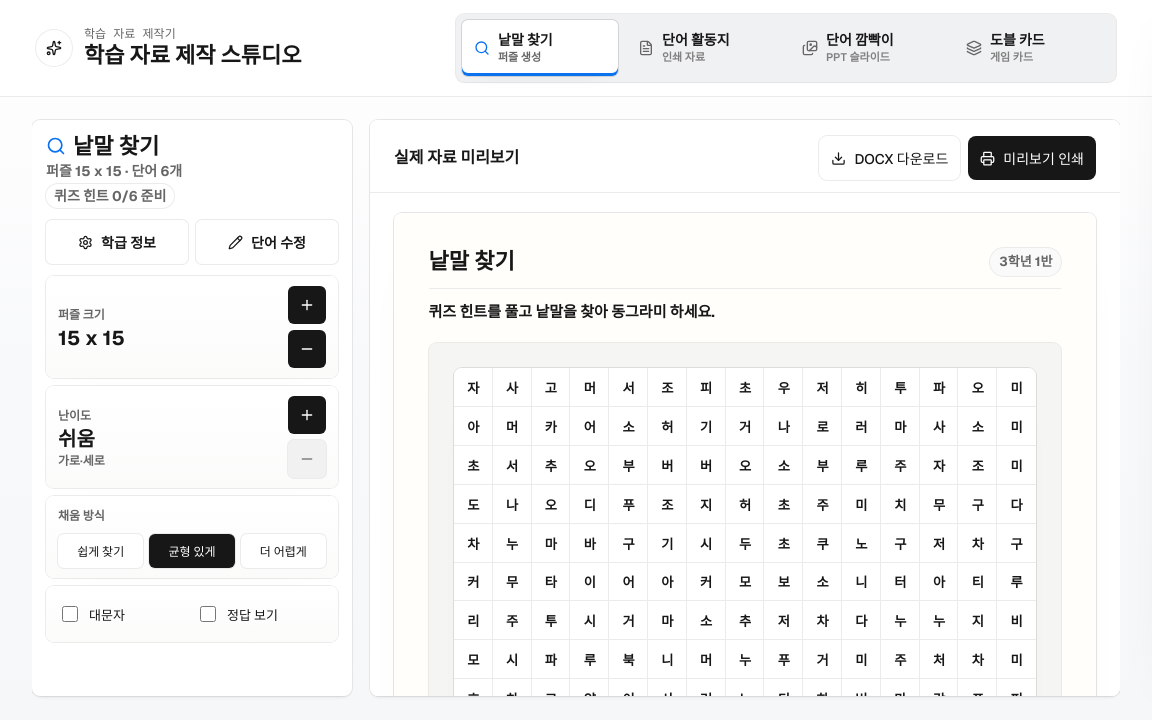
it: App › returns to the word preparation home when the top-left brand is clicked
Click the button "도블 카드 게임 카드".
click(1032, 48)  # box left=954, top=20, right=1110, bottom=76
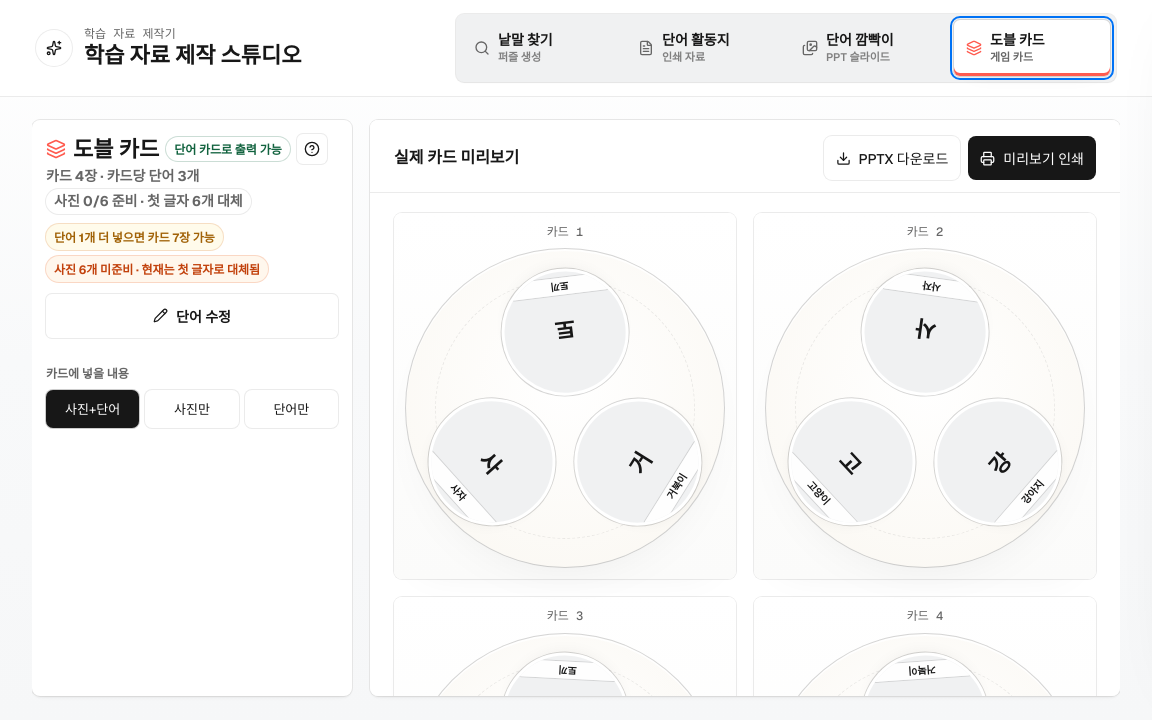
Expected: the heading "도블 카드" is shown, left=73, top=137, right=159, bottom=161
Click the button with aria-label "홈으로 이동".
click(169, 48)  # box left=36, top=27, right=302, bottom=69
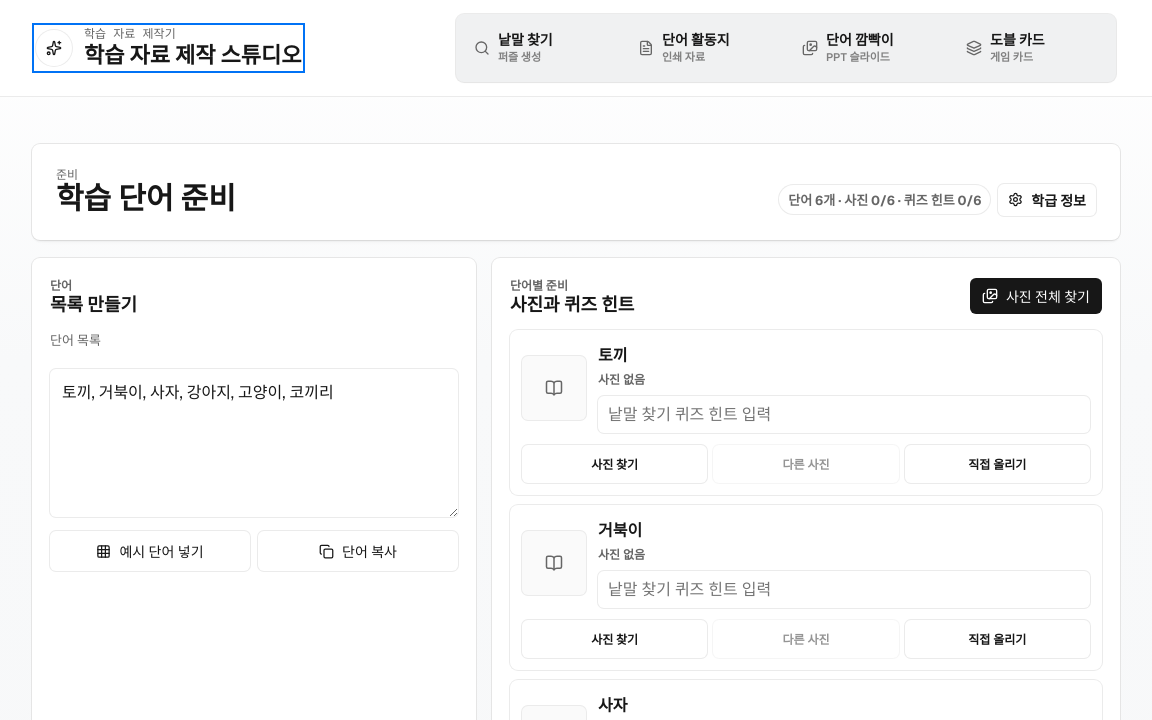
Expected: the heading "학습 단어 준비" is shown, left=56, top=182, right=236, bottom=216
